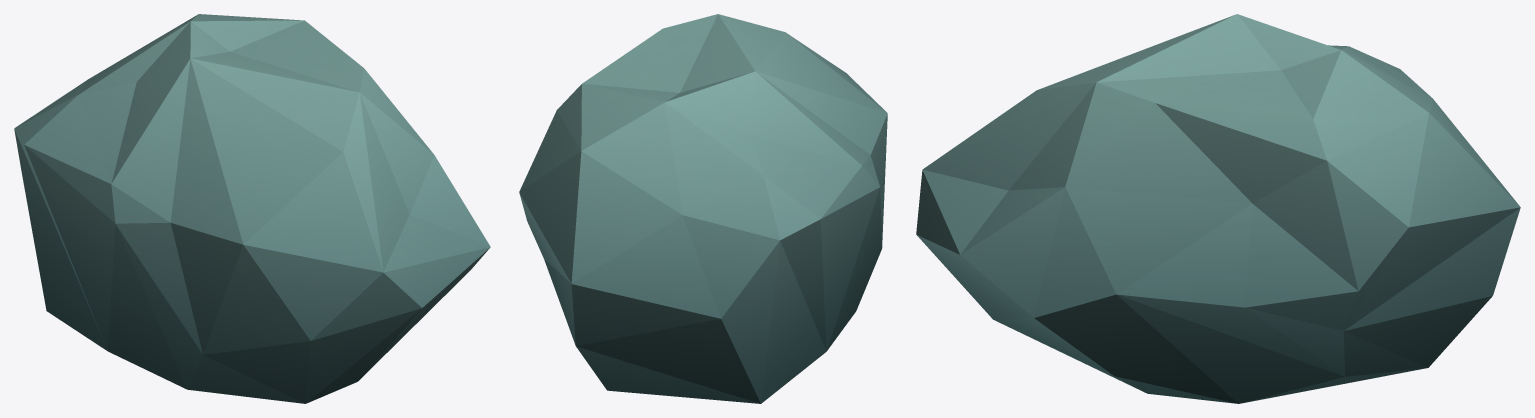
Rendered from stone3.fbx.
3 views of the same model, side by side, from view 1: azimuth 30°, elevation 25°; view 2: azimuth 150°, elevation 25°; view 3: azimuth 270°, elevation 25° (orthographic). The views are drawn at different scales.
Parts seen in each view (by area): view 1: pPlatonic2; view 2: pPlatonic2; view 3: pPlatonic2.
Boxes of the visible parts, left/top/right/bottom form: pPlatonic2: left=14, top=14, right=490, bottom=403; pPlatonic2: left=519, top=14, right=887, bottom=403; pPlatonic2: left=916, top=14, right=1520, bottom=403.
Bounding box in the file's own units: 14.95 × 15 × 23.32.
1 material, 1 textured.
